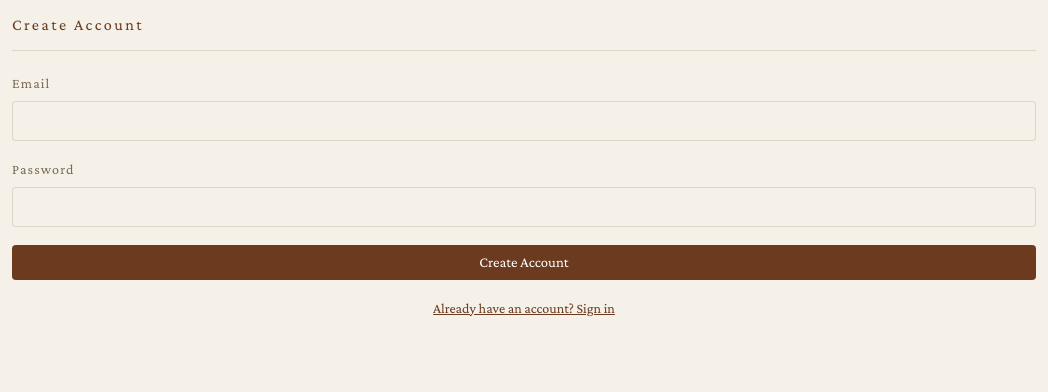
RegisterForm › shows error message on failed registration
The width and height of the screenshot is (1048, 392).
In the field: (524,121) [12,101,1036,141], type "existing@example.com"
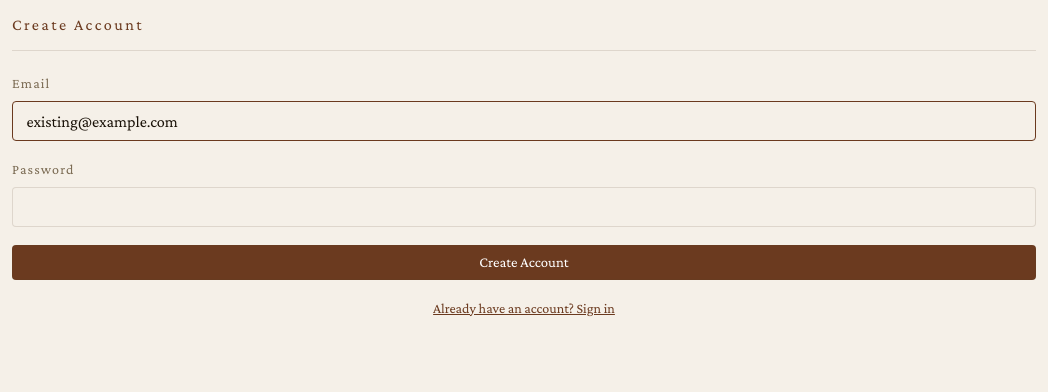
In the password field: (524,207) [12,187,1036,228], type "password123"
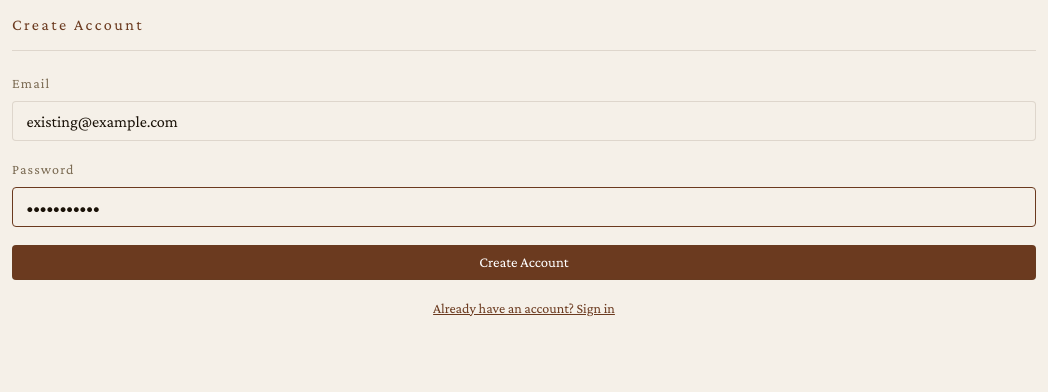
Click the button "Create Account": (524,263) [12,246,1036,280]
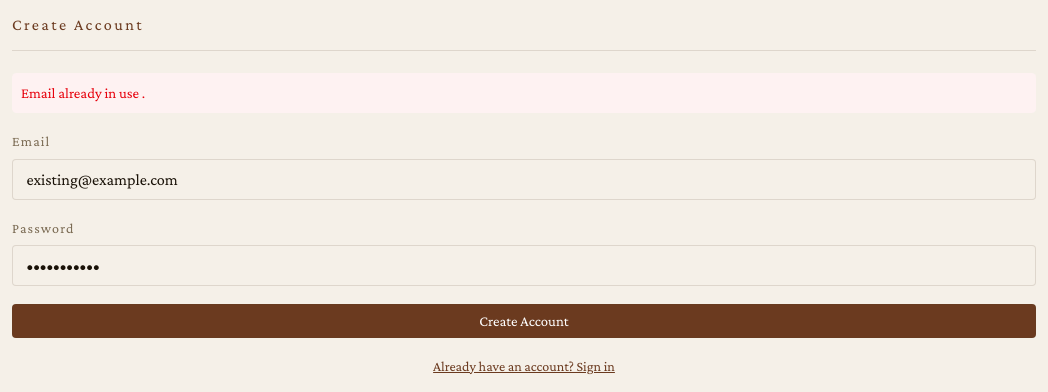
Expected: the text "Email already in use ." is shown, [12,73,1036,113]
